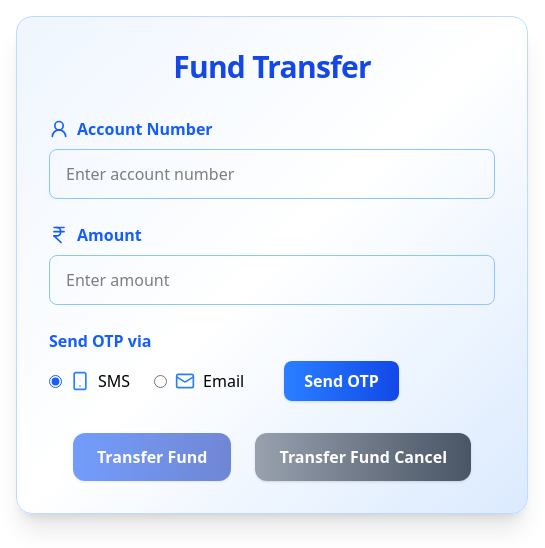
Scenario: FundTransfer Component › resets fields when Cancel button clicked
Type "12345678" into the field with placeholder "Enter account number".
click(272, 174); type("12345678")  # box [49,149,495,199]
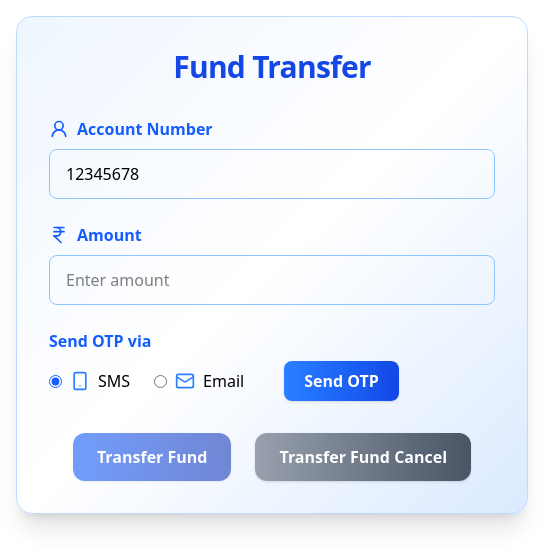
Type "500" into the field with placeholder "Enter amount".
click(272, 280); type("500")  # box [49,255,495,305]
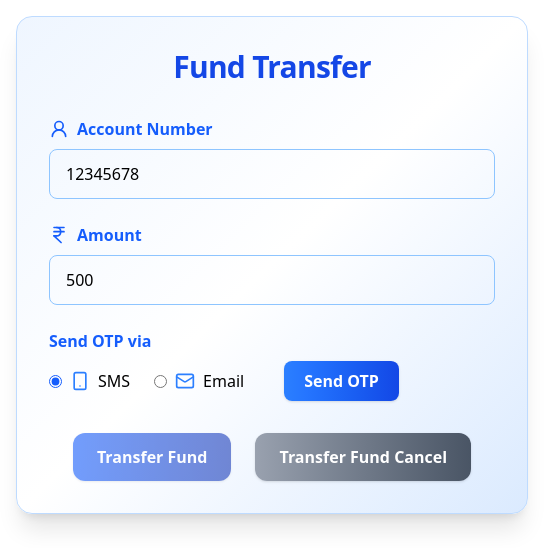
Click the button "Transfer Fund Cancel".
click(363, 457)  # box [256,433,471,481]
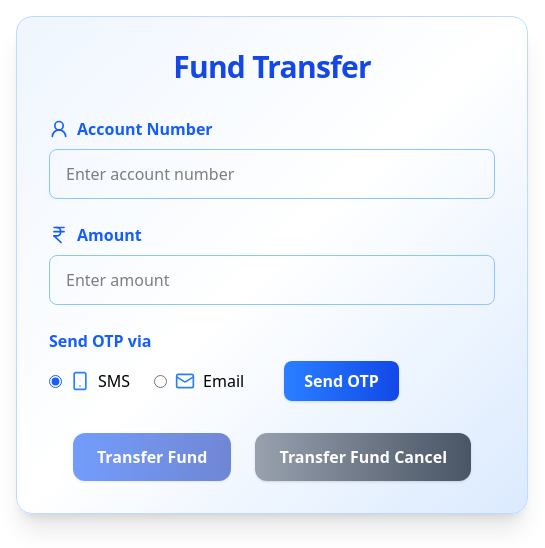
Expected: the field with placeholder "Enter account number" is empty, [49,149,495,199]
Expected: the field with placeholder "Enter amount" is empty, [49,255,495,305]
